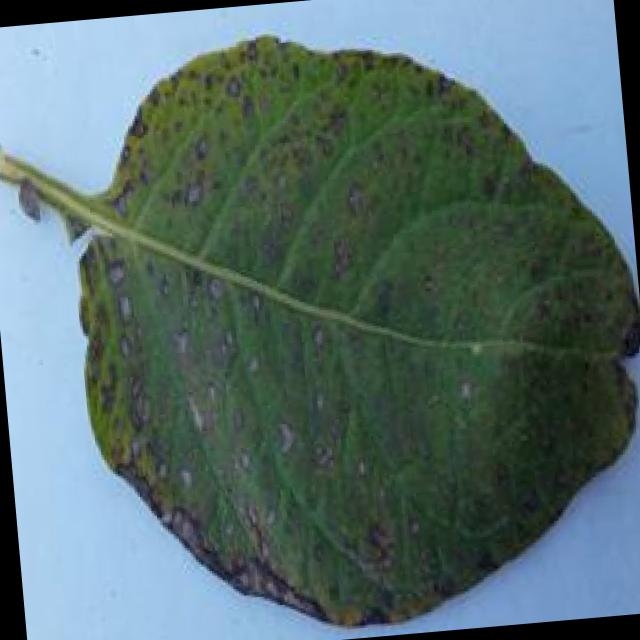Potato_Early_Blight: (45, 3, 640, 640)
